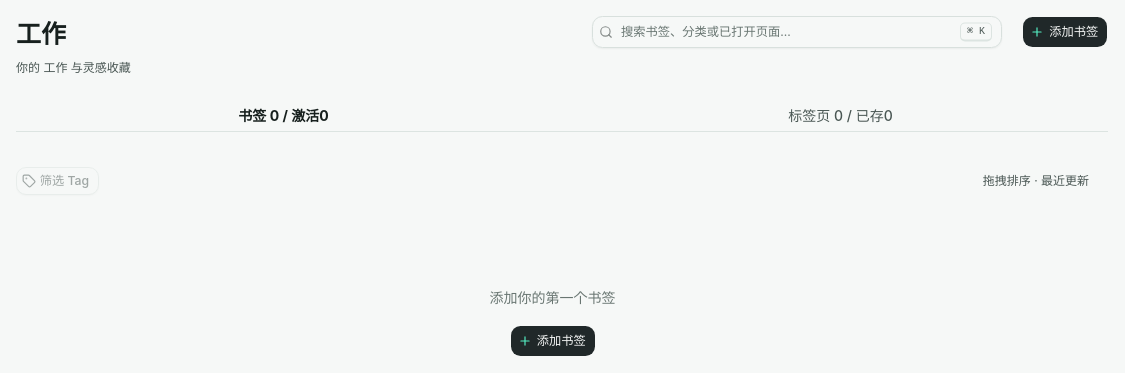
Test: Content 视图切换状态机(Tabs type=card) › 切到标签页视图:点击 标签页 tab → 渲染 TabList 空状态 + 保存至提示
Click the tab "标签页 0 / 已存0".
click(840, 116)  # box [573, 92, 1108, 140]
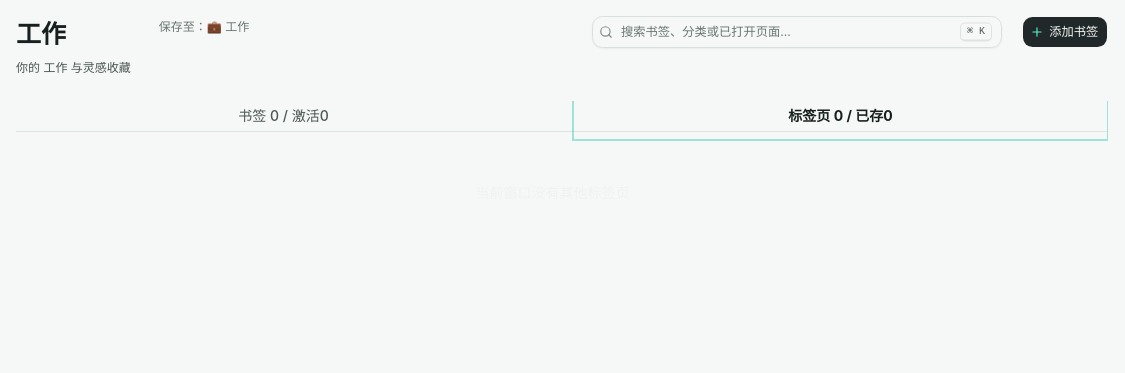
Expected: the text "保存至：💼 工作" is shown, [159, 19, 249, 34]
